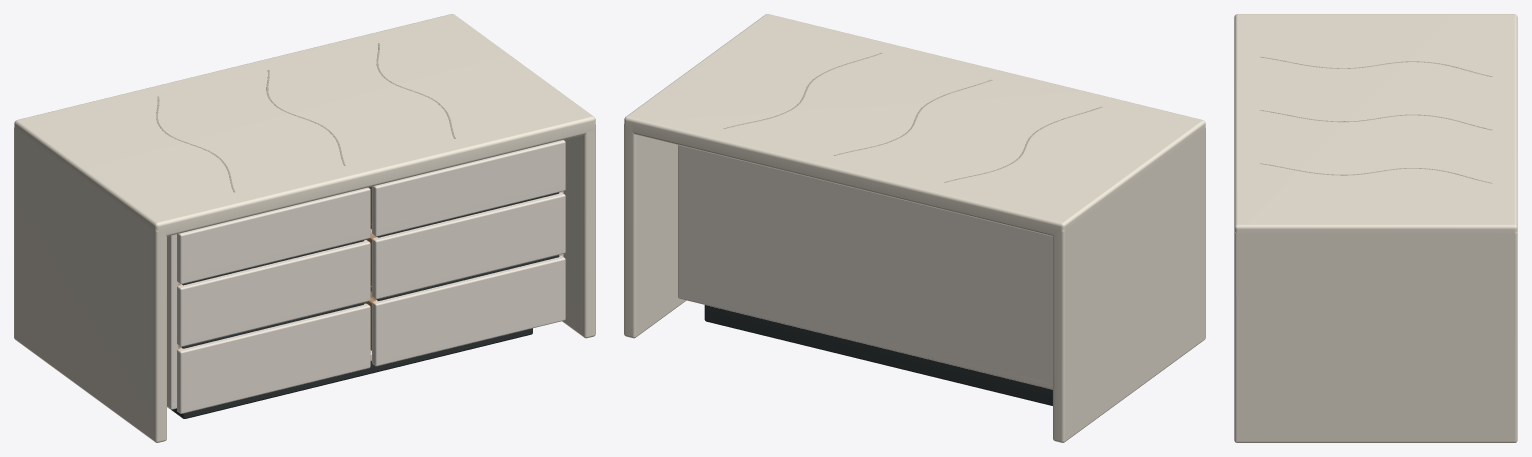
The model's file is kitchenModernIslandWhite.glb.
The picture shows the model from 3 angles, left to right: view 1: azimuth 30°, elevation 25°; view 2: azimuth 150°, elevation 25°; view 3: azimuth 270°, elevation 25°; orthographic projection.
Parts seen in each view (by area): view 1: Thick stone worktop, Stone waterfall end panel, Handleless island drawer.002, Handleless island drawer.005, Handleless island drawer.004, Handleless island drawer.001, Handleless island drawer, Handleless island drawer.003, Stone waterfall end panel.001, Recessed island plinth, Storage inner side; view 2: Thick stone worktop, Storage inner back, Stone waterfall end panel, Stone waterfall end panel.001, Recessed island plinth; view 3: Thick stone worktop, Stone waterfall end panel.001, Fine stone vein.001, Fine stone vein.002, Fine stone vein.
Boxes of the visible parts, box(x1,y1,x2,y2) form: Thick stone worktop: box(14, 14, 595, 236); Stone waterfall end panel: box(14, 127, 166, 442); Handleless island drawer.002: box(177, 303, 370, 413); Handleless island drawer.005: box(372, 256, 565, 366); Handleless island drawer.004: box(372, 192, 565, 299); Handleless island drawer.001: box(177, 240, 370, 346); Handleless island drawer: box(177, 187, 370, 284); Handleless island drawer.003: box(372, 140, 565, 236); Stone waterfall end panel.001: box(562, 123, 595, 338); Recessed island plinth: box(167, 328, 532, 418); Storage inner side: box(167, 234, 178, 409); Thick stone worktop: box(624, 14, 1205, 236); Storage inner back: box(678, 145, 1052, 389); Stone waterfall end panel: box(1053, 127, 1205, 442); Stone waterfall end panel.001: box(624, 123, 686, 338); Recessed island plinth: box(704, 305, 1052, 405); Thick stone worktop: box(1234, 14, 1517, 238); Stone waterfall end panel.001: box(1234, 232, 1517, 442); Fine stone vein.001: box(1259, 110, 1492, 130); Fine stone vein.002: box(1259, 163, 1492, 183); Fine stone vein: box(1260, 56, 1492, 76).
Bounding box in the file's own units: 2.58 × 1.23 × 1.45.
